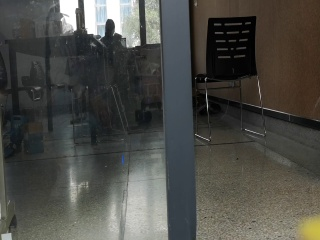room: (5, 4, 315, 238)
